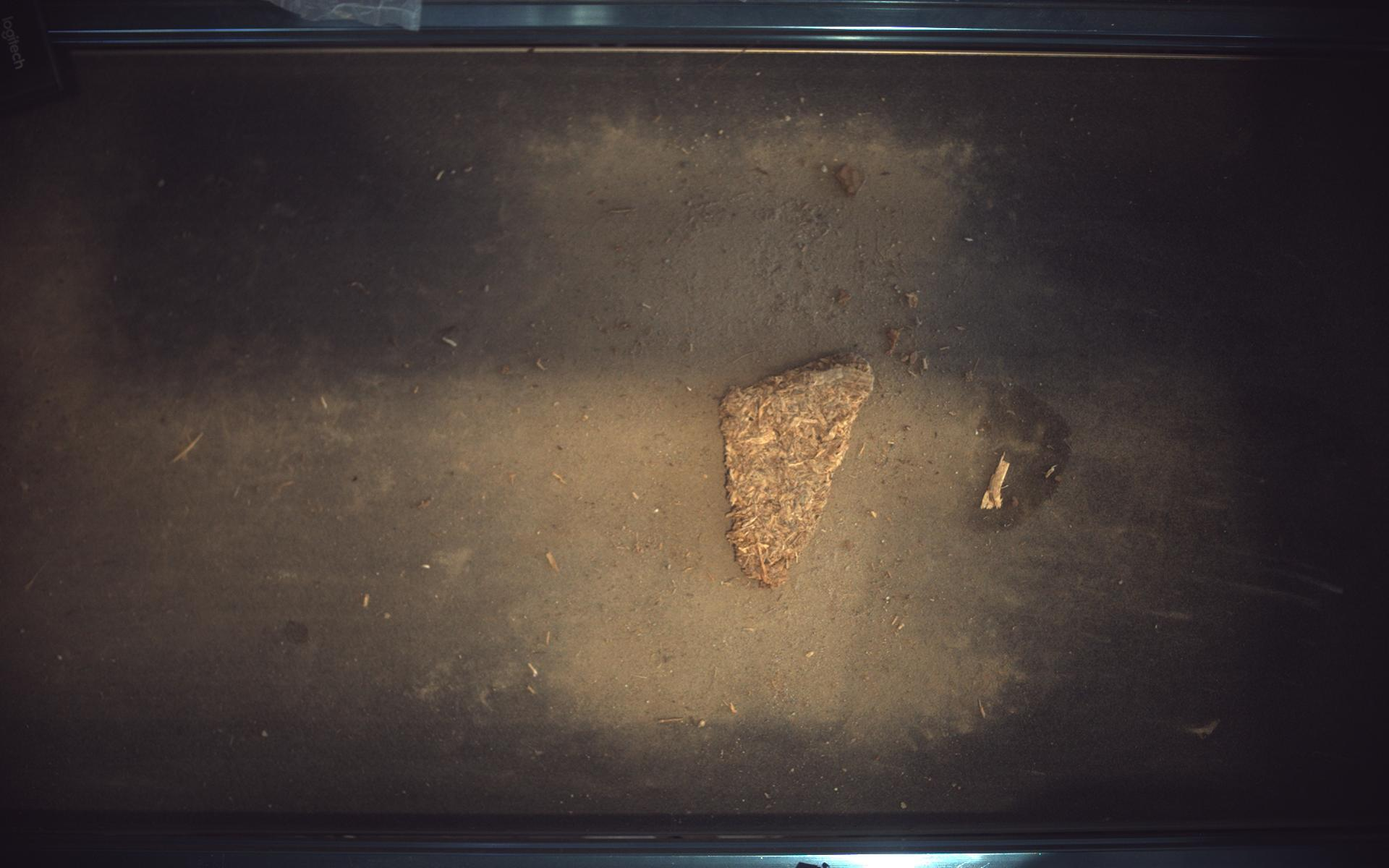wood: (721, 353, 875, 588)
